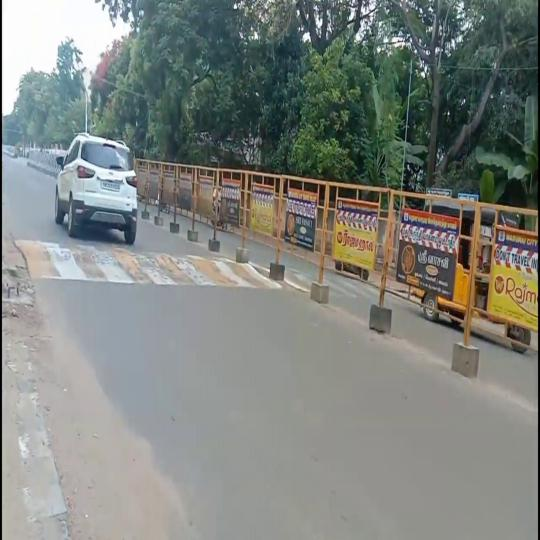Speed Bump: (13, 239, 208, 287), (330, 273, 368, 297), (237, 262, 270, 288), (209, 258, 237, 288), (285, 265, 310, 293)
